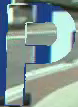Parking: (4, 1, 72, 106)
